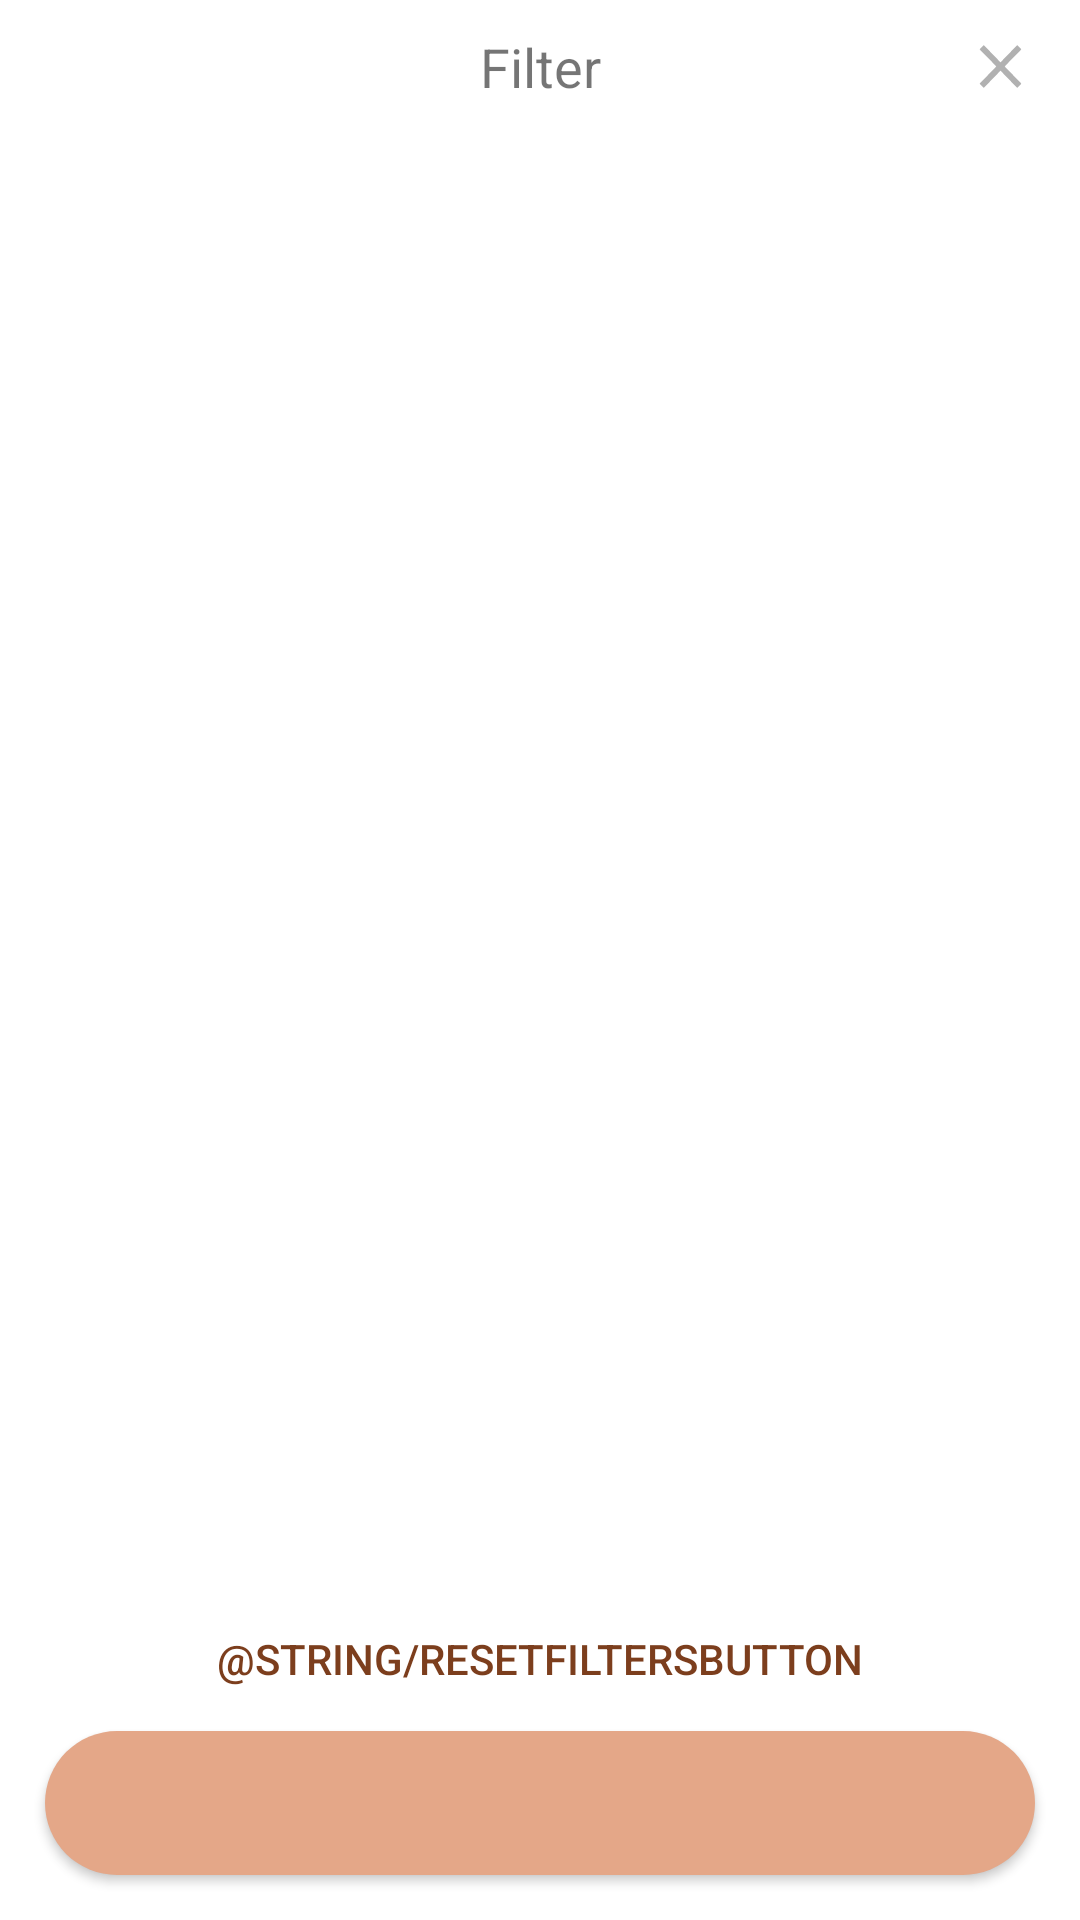

Where icons sit on this 1080 × 1920 app screen, as (x1, y1, x2, y2):
close: (980, 45, 1021, 88)
